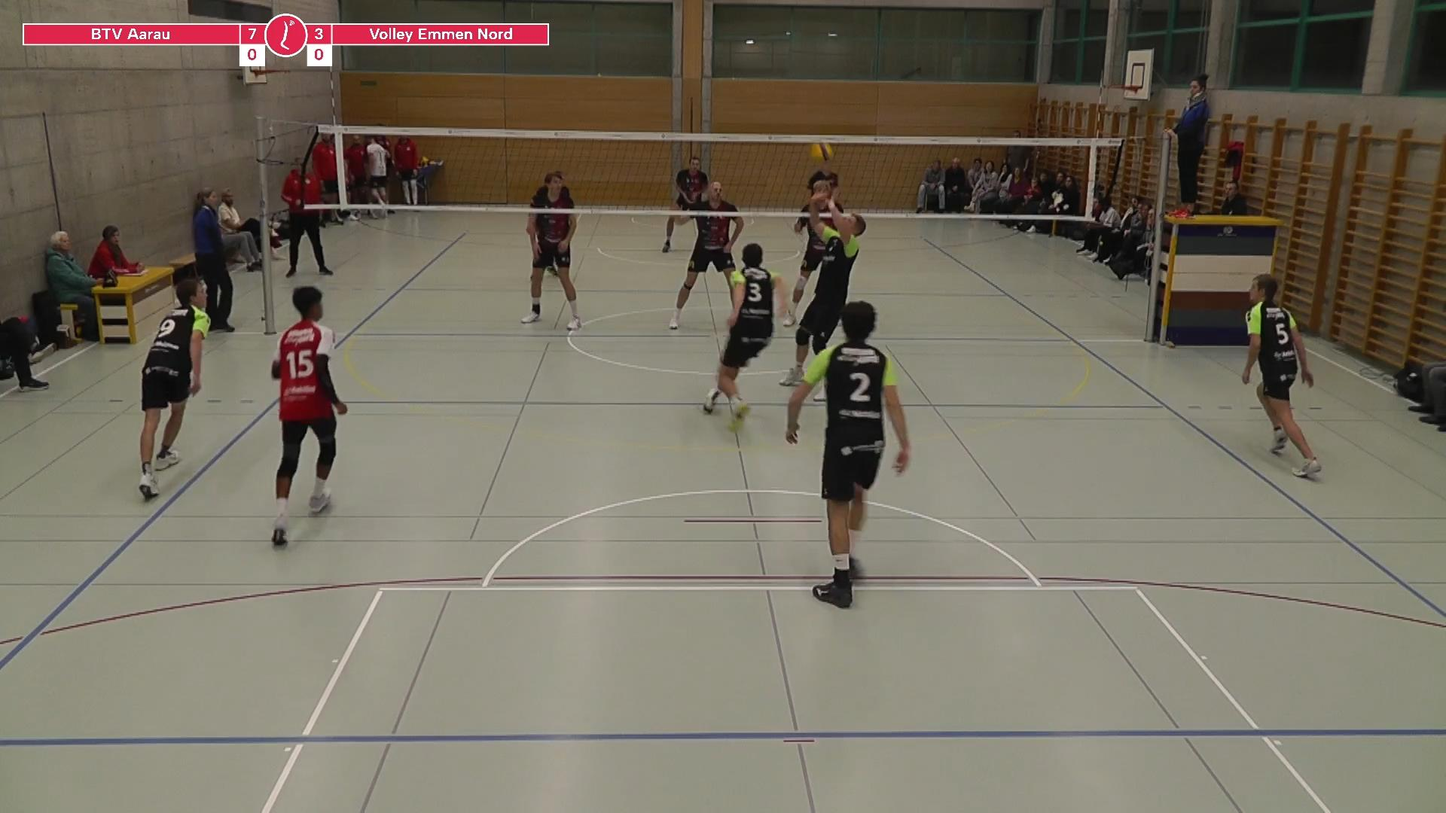Player: (786, 301, 910, 607), (271, 286, 347, 546), (1242, 276, 1321, 477), (139, 279, 210, 500), (703, 243, 784, 431), (670, 181, 743, 329), (521, 172, 581, 330), (784, 205, 825, 326), (670, 156, 708, 211), (808, 161, 837, 190)
Set: (780, 184, 870, 392)
ball: (808, 137, 834, 165)
